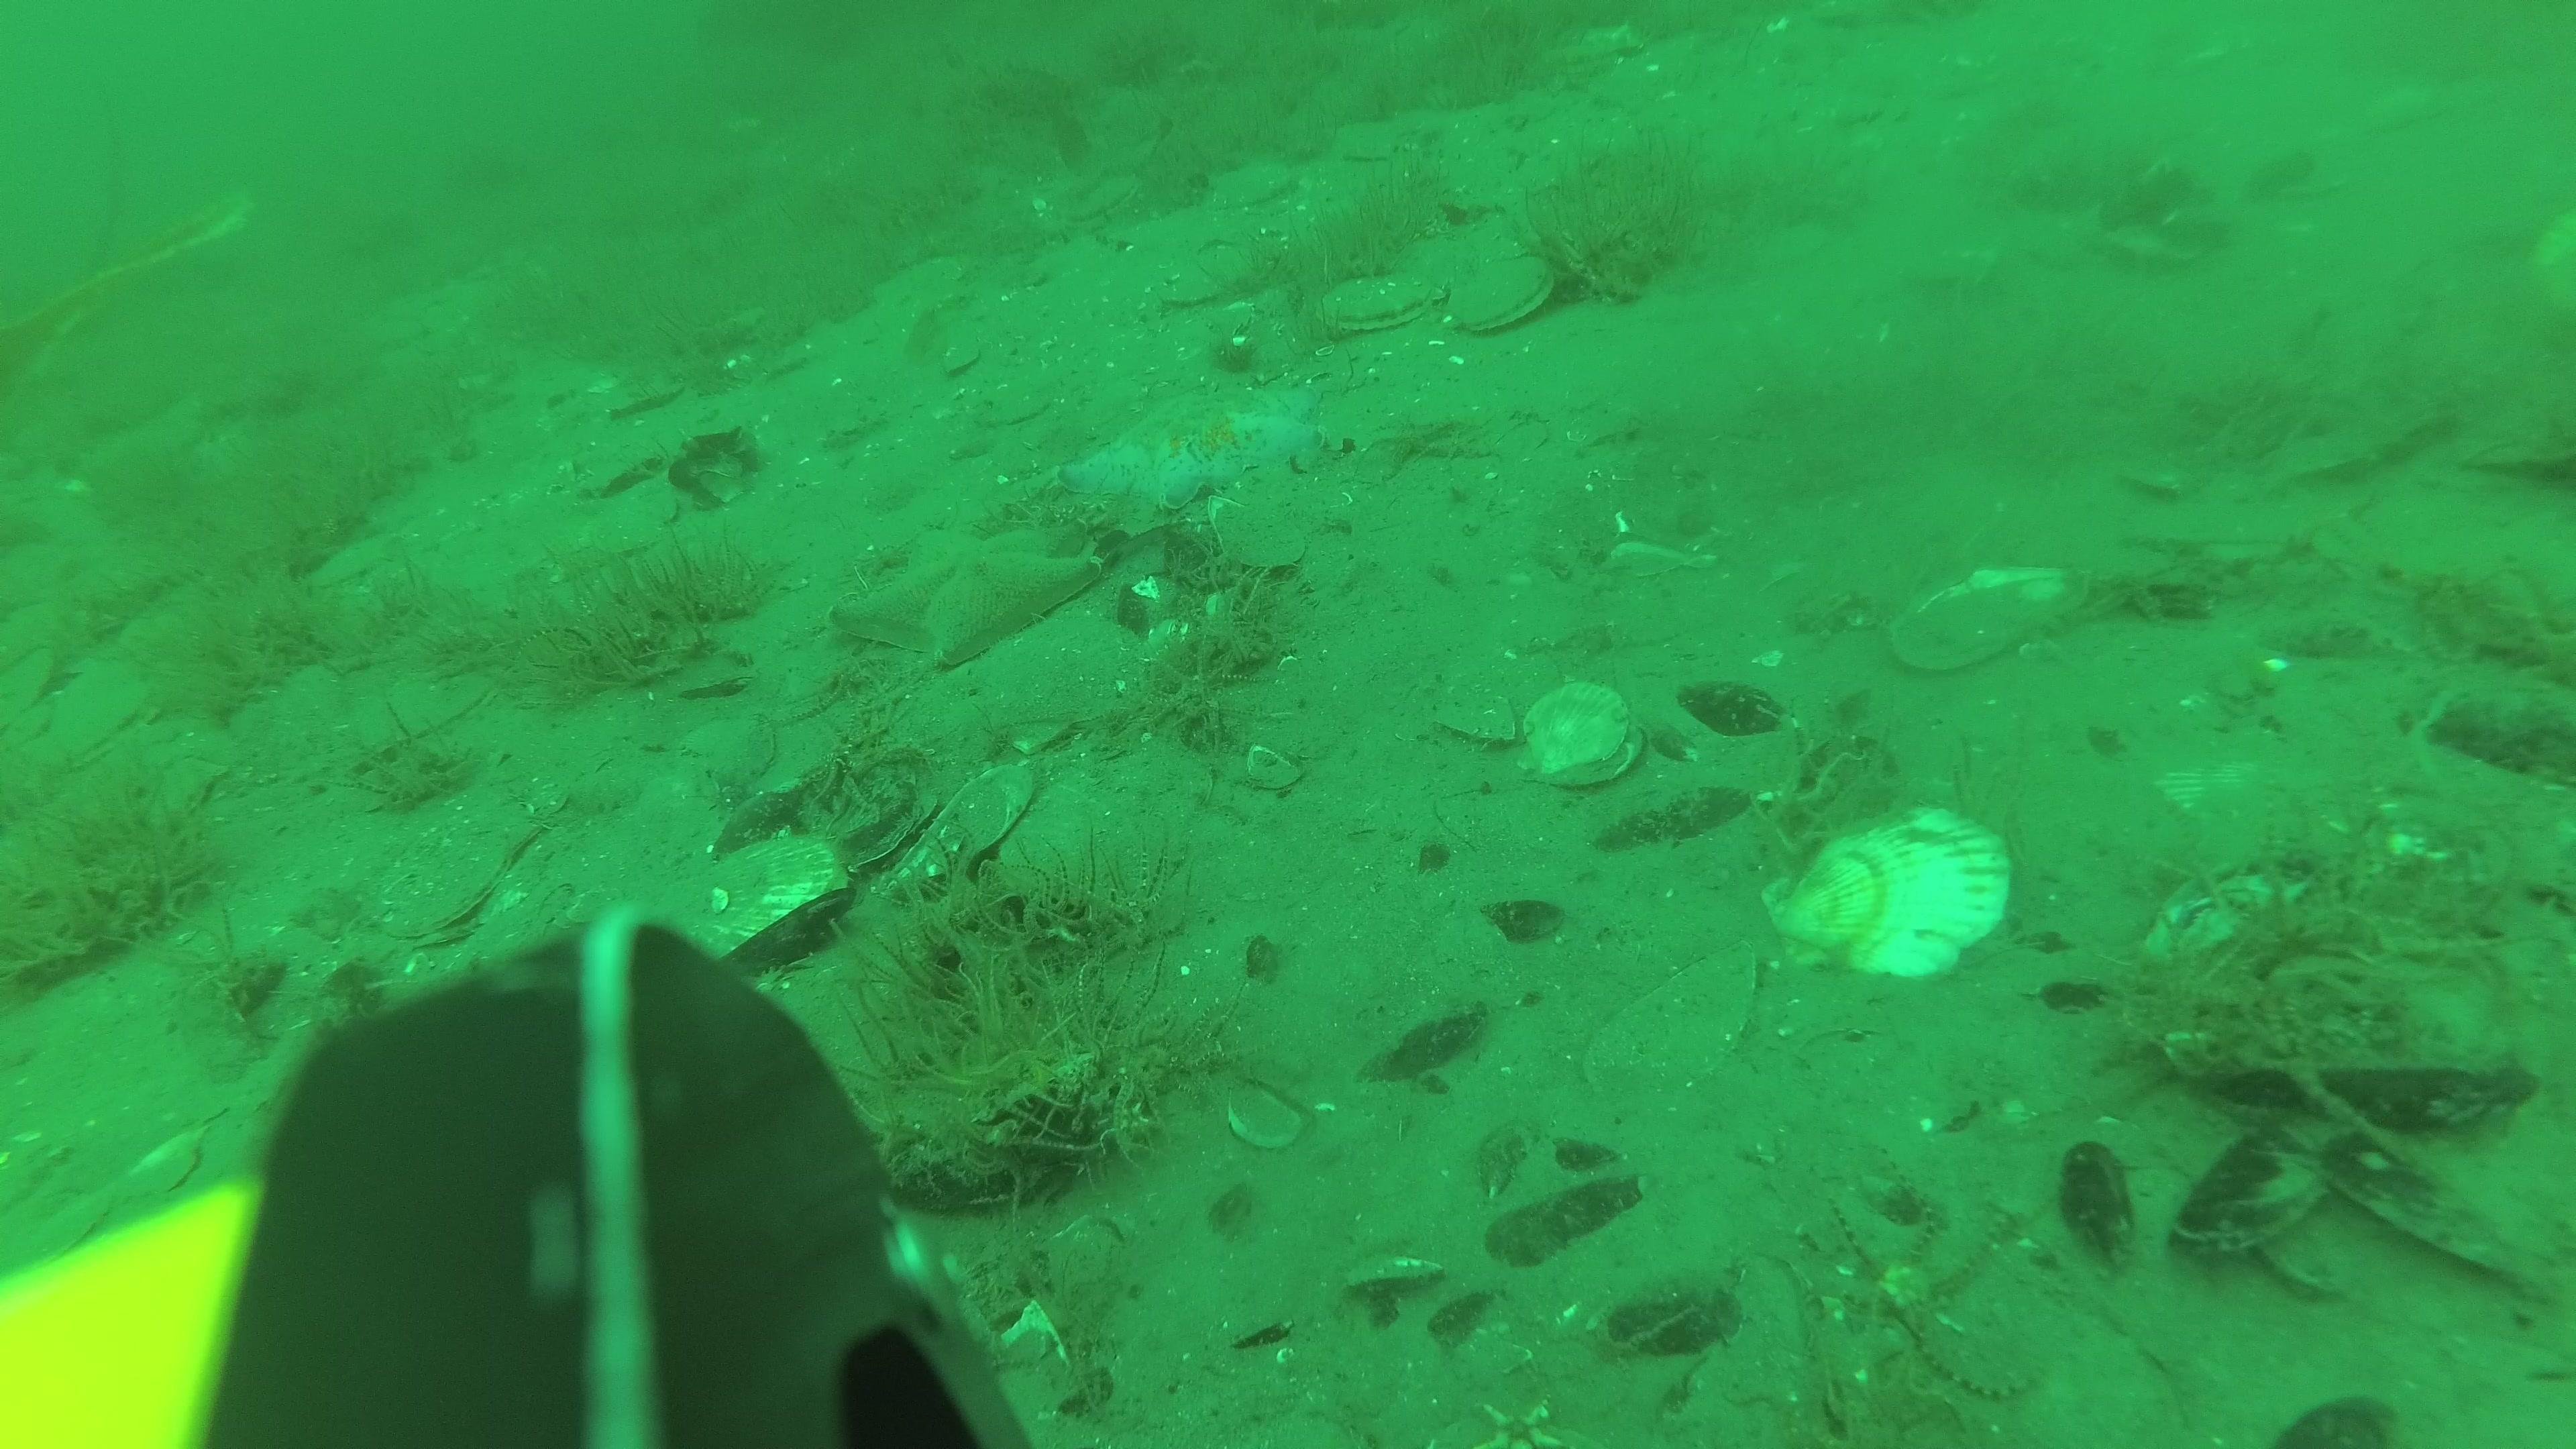scallop: (1757, 816, 2005, 978), (655, 842, 849, 982), (1888, 563, 2091, 665), (380, 810, 538, 938), (1516, 681, 1637, 789), (1453, 253, 1555, 334), (1322, 272, 1440, 331)
starfish: (832, 529, 1104, 660), (1058, 386, 1330, 495)
